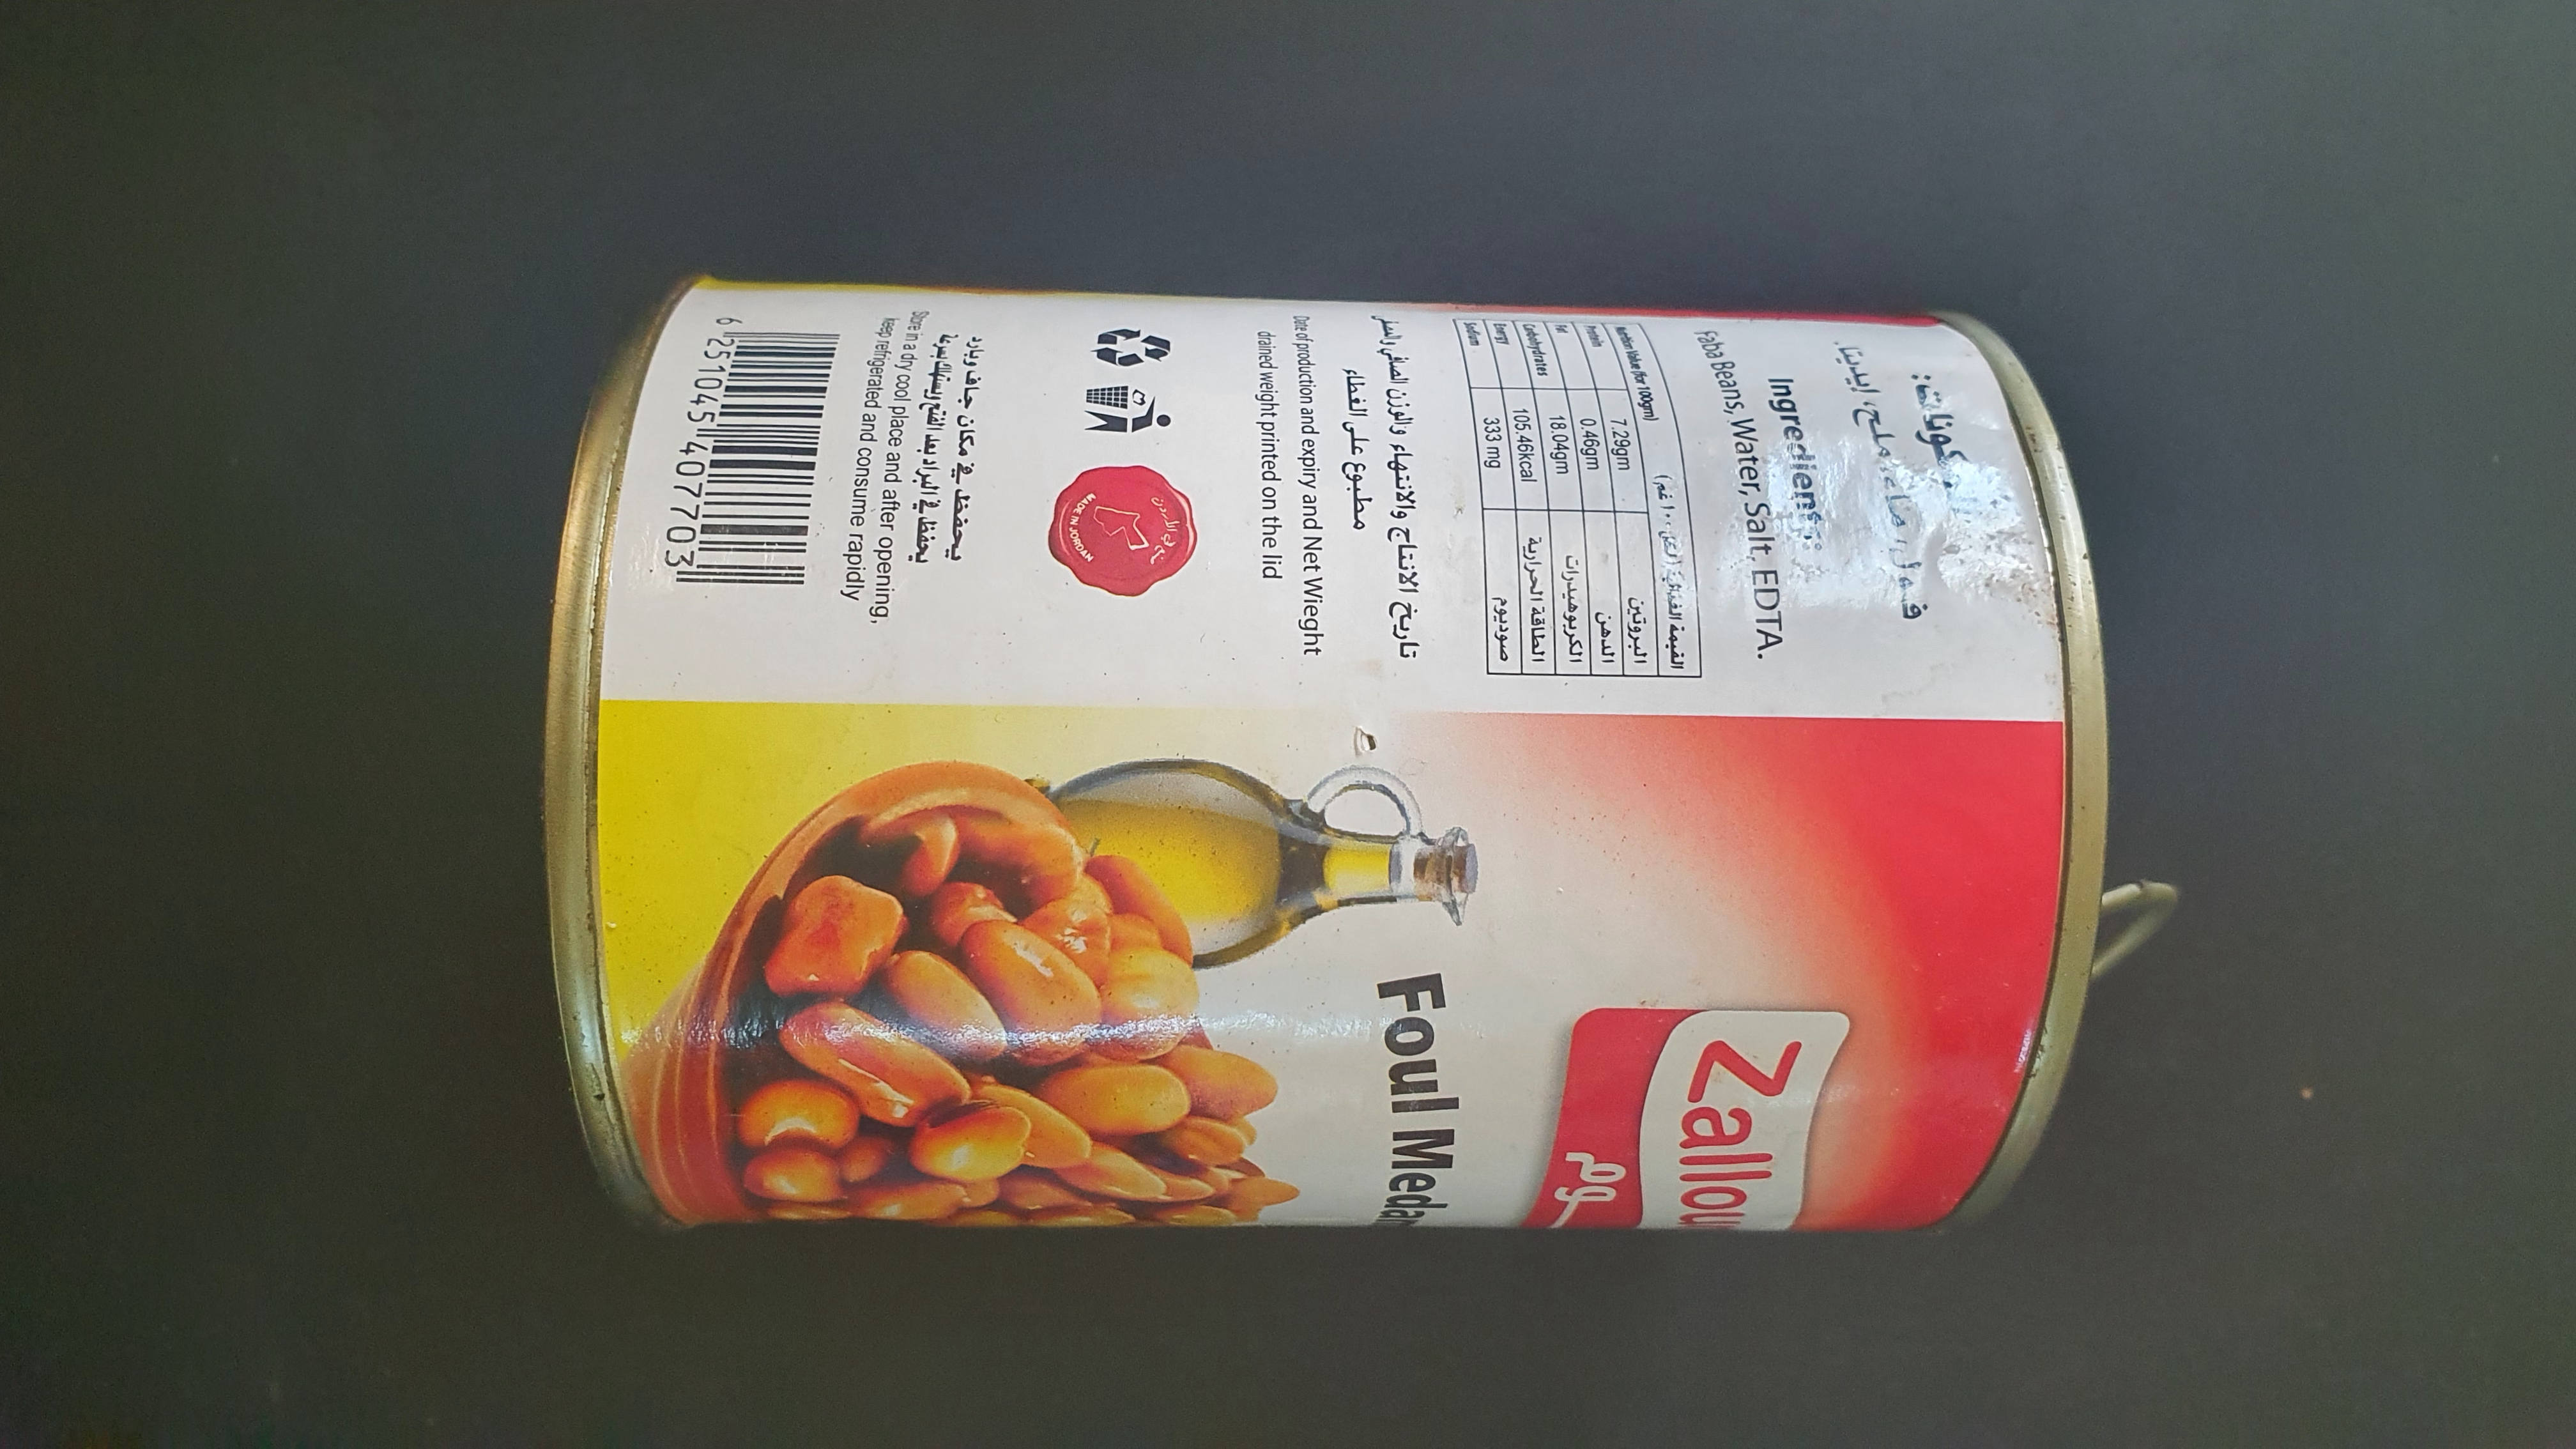metal: (495, 205, 2204, 1284)
